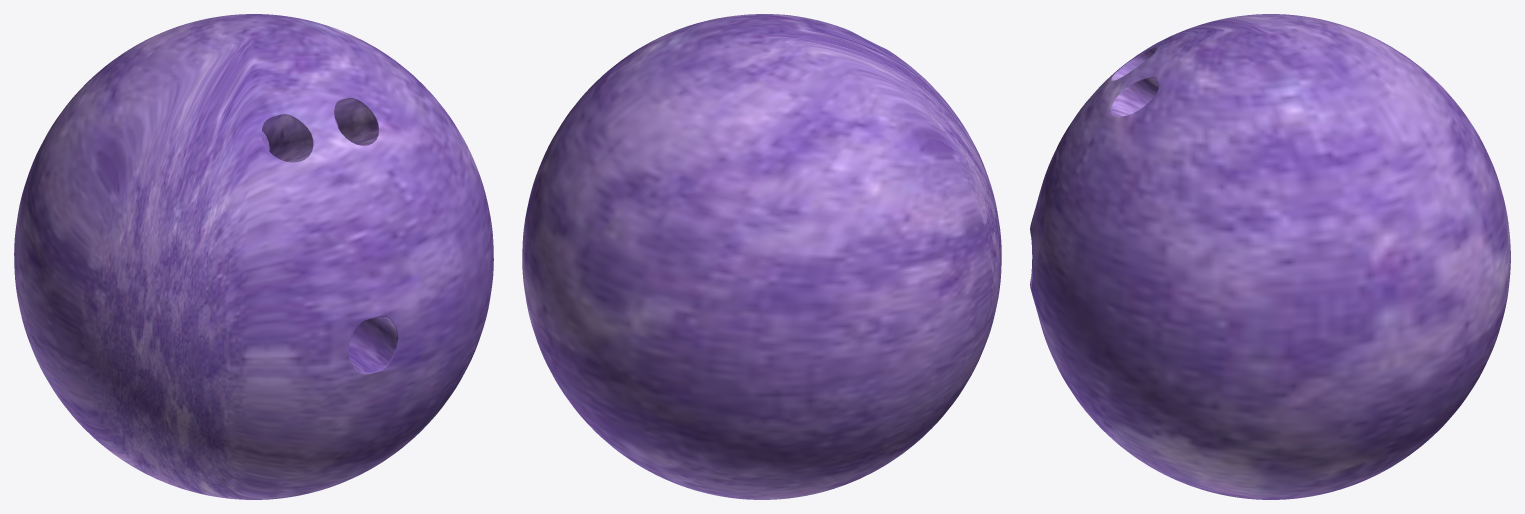
File: bowling_ball.fbx
3 views of the same model, side by side, from view 1: azimuth 30°, elevation 25°; view 2: azimuth 150°, elevation 25°; view 3: azimuth 270°, elevation 25° (orthographic).
Parts seen in each view (by area): view 1: pSphere2; view 2: pSphere2; view 3: pSphere2.
Boxes of the visible parts, left/top/right/bottom form: pSphere2: left=14, top=14, right=493, bottom=499; pSphere2: left=522, top=14, right=1001, bottom=499; pSphere2: left=1030, top=14, right=1510, bottom=499.
Bounding box in the file's own units: 6.46 × 6.58 × 6.47.
Materials: 1 (1 with a texture image).
